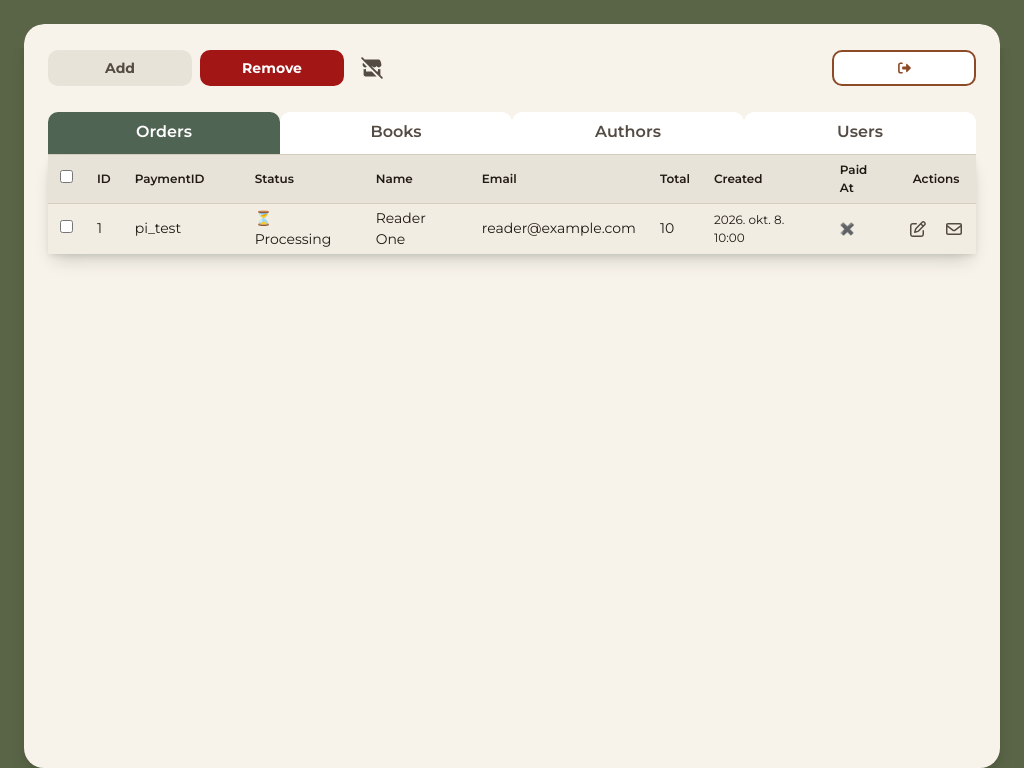
Test: CMS deletion controls › shows pending confirmation and prevents repeated removal requests
This screenshot has width=1024, height=768.
Click the checkbox named "Select order #1": click(66, 226) 60,220 -> 73,233
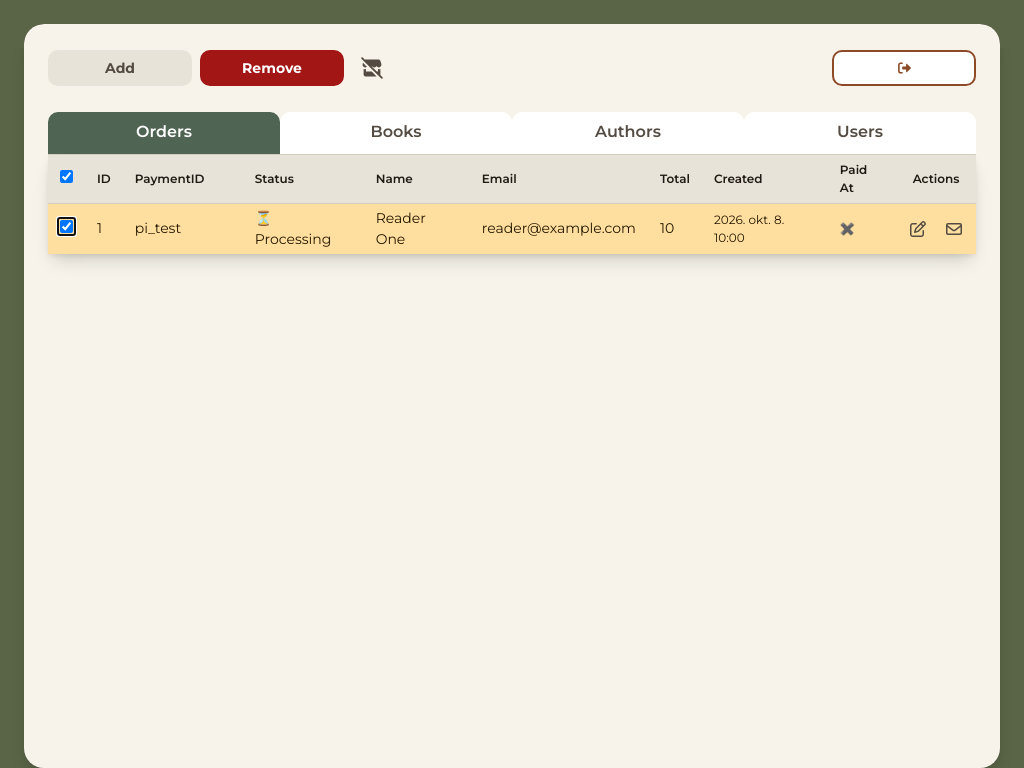
Click the button "Remove": click(272, 68) 200,50 -> 344,86
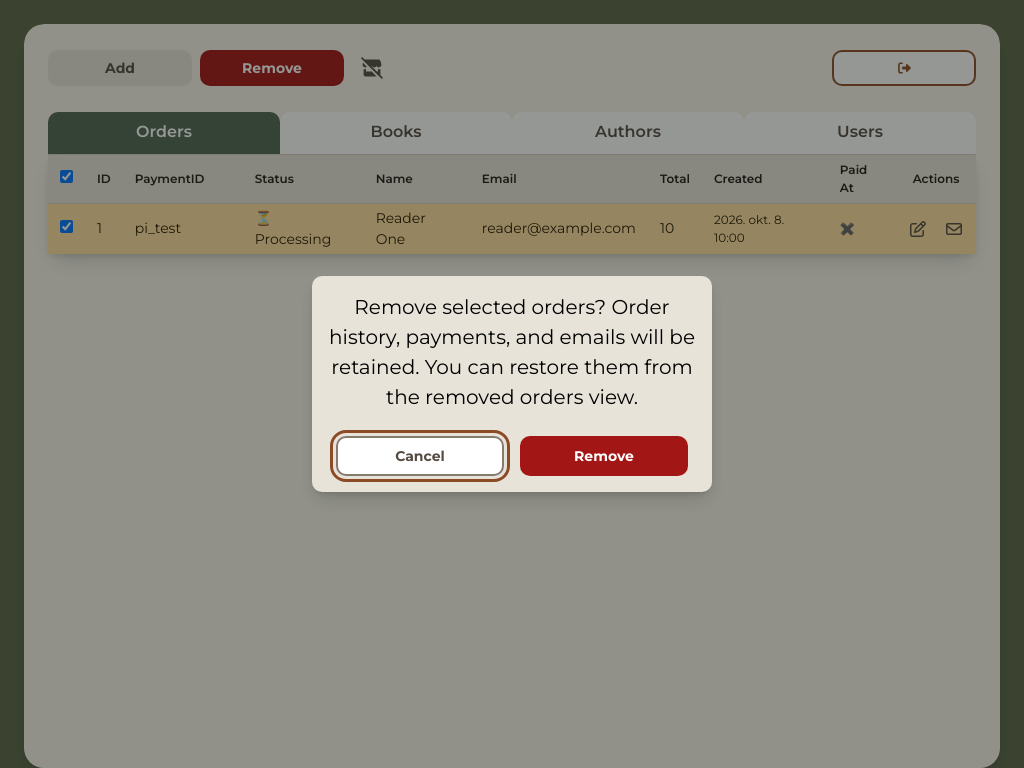
Click the button "Remove": click(604, 456) 520,436 -> 688,476
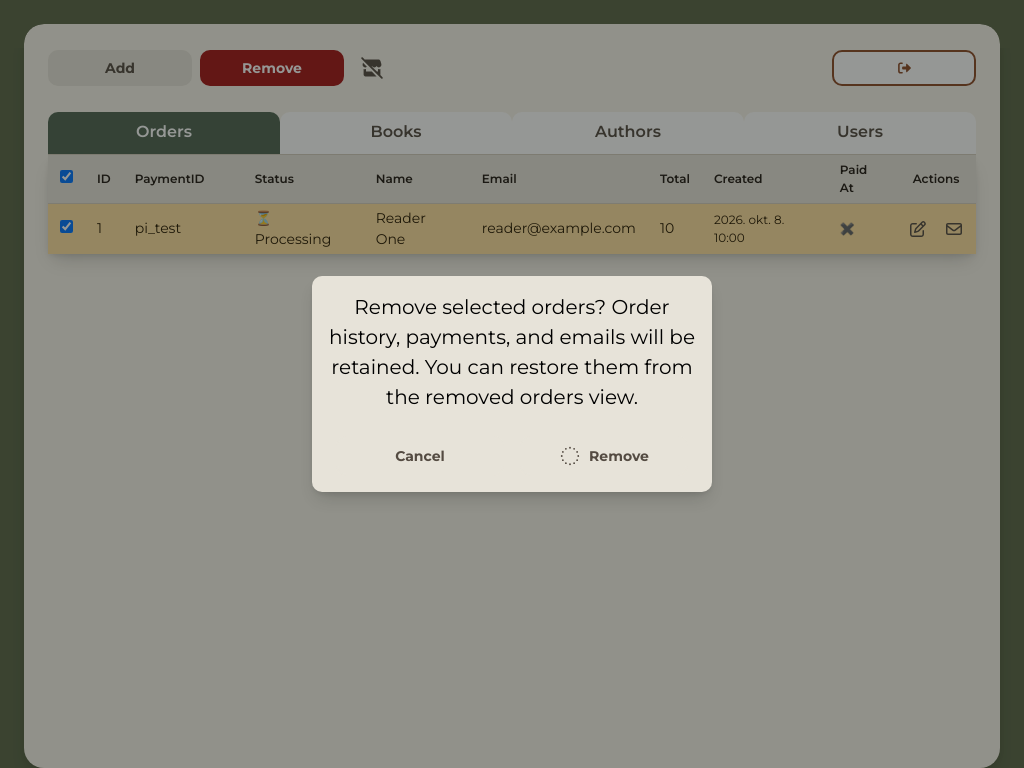
Expected: the button "Remove" is disabled
Expected: the button "Cancel" is disabled, 336,436 -> 504,476
Click the button "Remove": click(604, 456) 520,436 -> 688,476
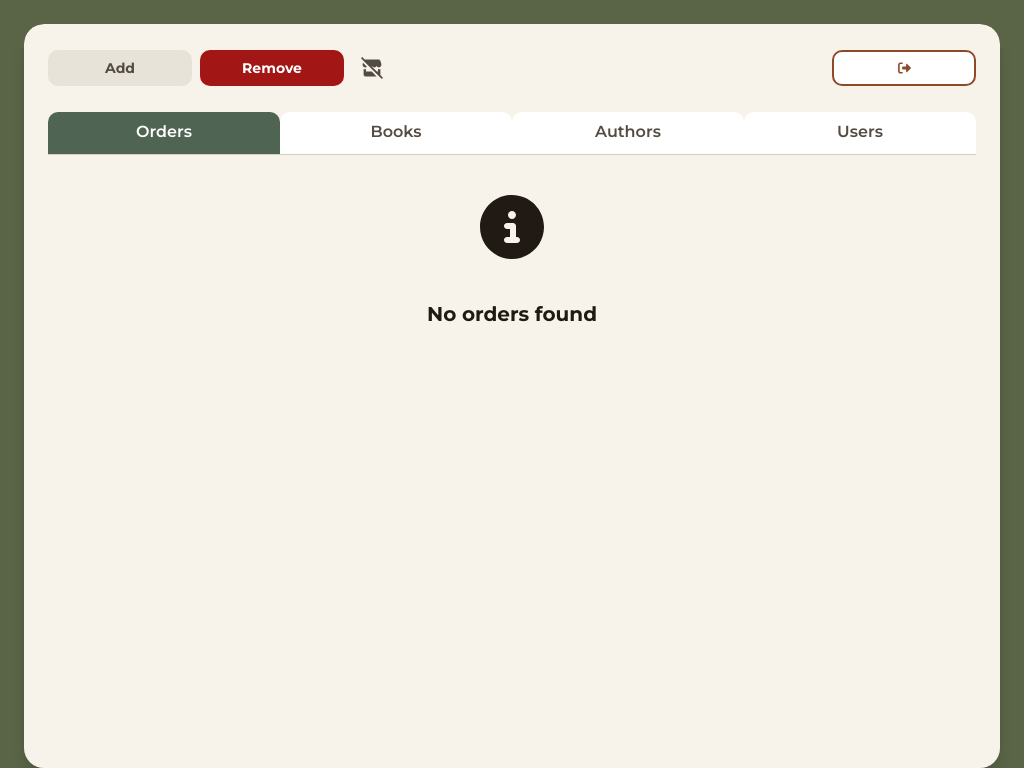
Expected: the text "No orders found" is shown, 427,299 -> 597,329
Expected: the dialog is gone
